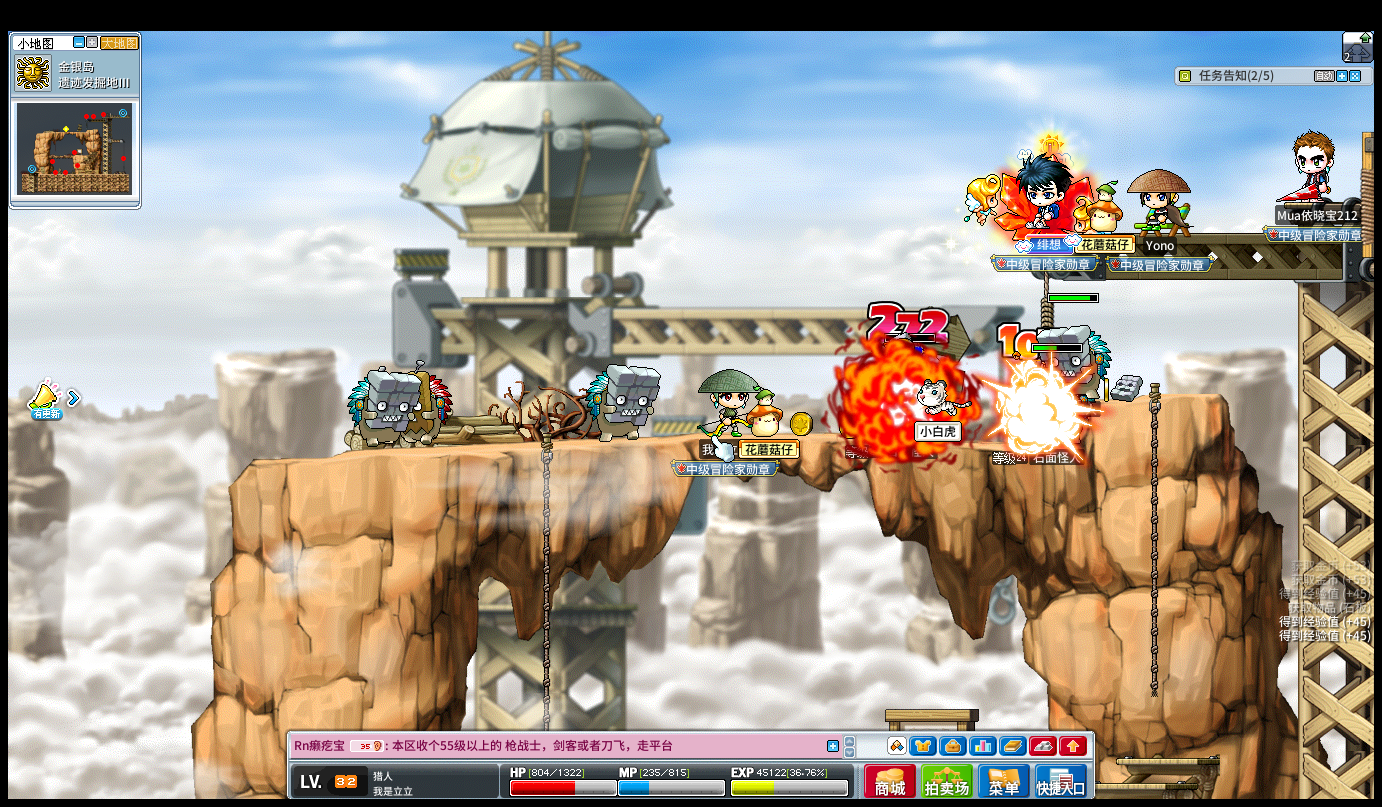floor: (240, 428, 1049, 462), (250, 427, 1113, 454), (1078, 390, 1227, 406), (1115, 755, 1219, 768)
monster: (345, 369, 418, 451), (585, 363, 660, 442), (412, 363, 450, 449)
rope: (1145, 379, 1161, 700), (539, 429, 551, 775), (539, 430, 552, 671)
